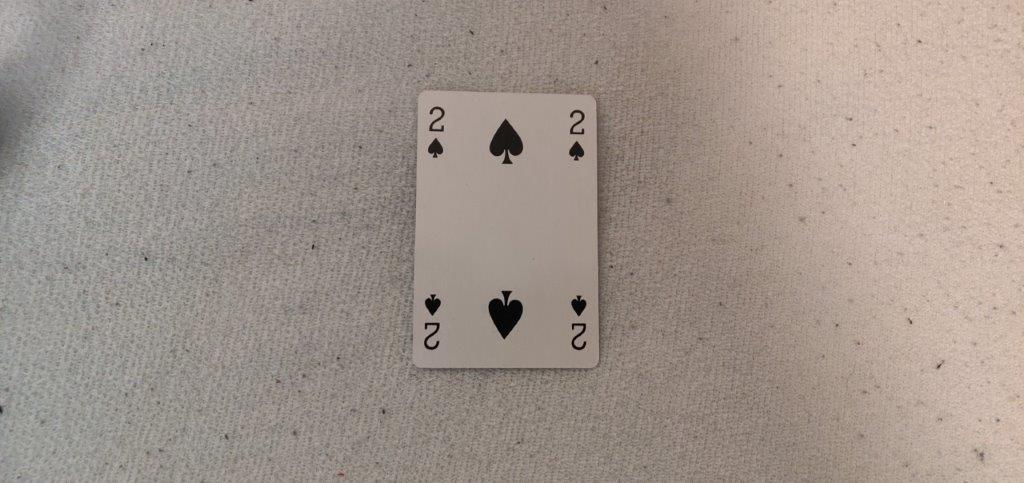2S: (422, 102, 448, 160), (564, 106, 588, 163)
